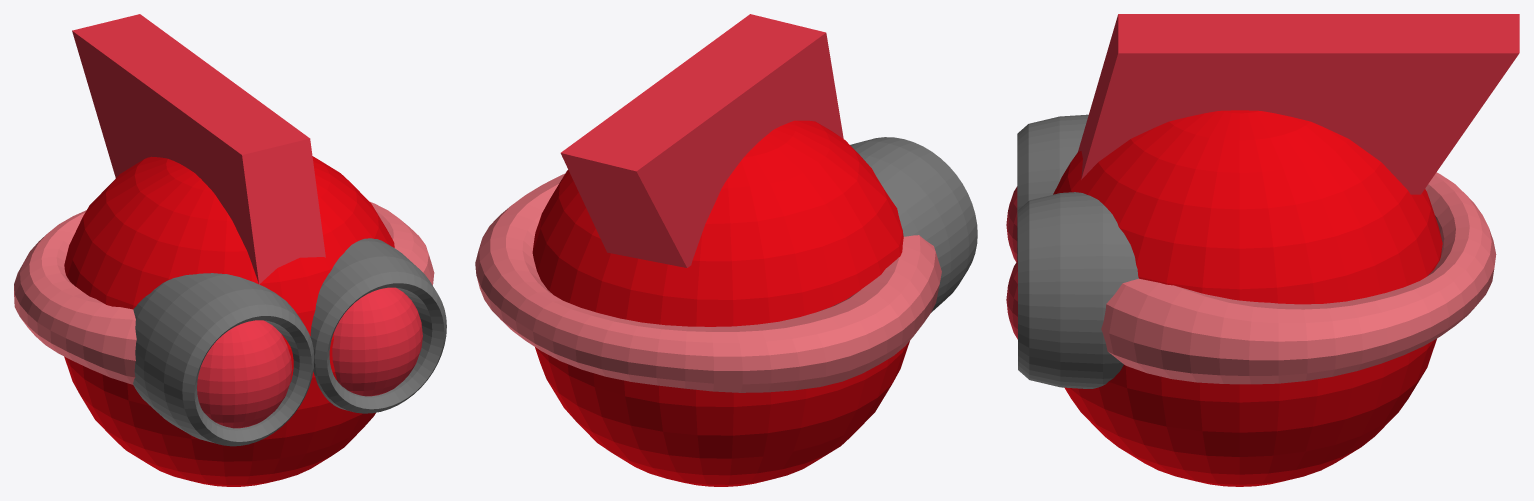
Rendered from HeadModel.fbx.
3 views of the same model, side by side, from view 1: azimuth 30°, elevation 25°; view 2: azimuth 150°, elevation 25°; view 3: azimuth 270°, elevation 25° (orthographic). The views are drawn at different scales.
Parts seen in each view (by area): view 1: Sphere, Cube, Torus.002, Torus.004, Torus.001, Sphere.001, Sphere.002; view 2: Sphere, Cube, Torus.004, Torus.002; view 3: Sphere, Cube, Torus.004, Torus.001, Torus.002, Sphere.002, Sphere.001.
Boxes of the visible parts, x1=… form: Sphere: x1=64, y1=156, x2=394, y2=486; Cube: x1=72, y1=14, x2=325, y2=284; Torus.002: x1=133, y1=273, x2=314, y2=446; Torus.004: x1=14, y1=202, x2=434, y2=384; Torus.001: x1=310, y1=238, x2=446, y2=413; Sphere.001: x1=197, y1=320, x2=292, y2=428; Sphere.002: x1=332, y1=287, x2=422, y2=396; Sphere: x1=532, y1=120, x2=909, y2=486; Cube: x1=560, y1=14, x2=843, y2=267; Torus.004: x1=475, y1=173, x2=941, y2=392; Torus.002: x1=850, y1=137, x2=977, y2=312; Sphere: x1=1053, y1=110, x2=1442, y2=486; Cube: x1=1078, y1=14, x2=1519, y2=194; Torus.004: x1=1101, y1=172, x2=1496, y2=384; Torus.001: x1=1018, y1=192, x2=1138, y2=388; Torus.002: x1=1017, y1=114, x2=1088, y2=260; Sphere.002: x1=1006, y1=260, x2=1017, y2=339; Sphere.001: x1=1006, y1=186, x2=1017, y2=261.
Size of the model in its own units: 240 by 229 by 248.
